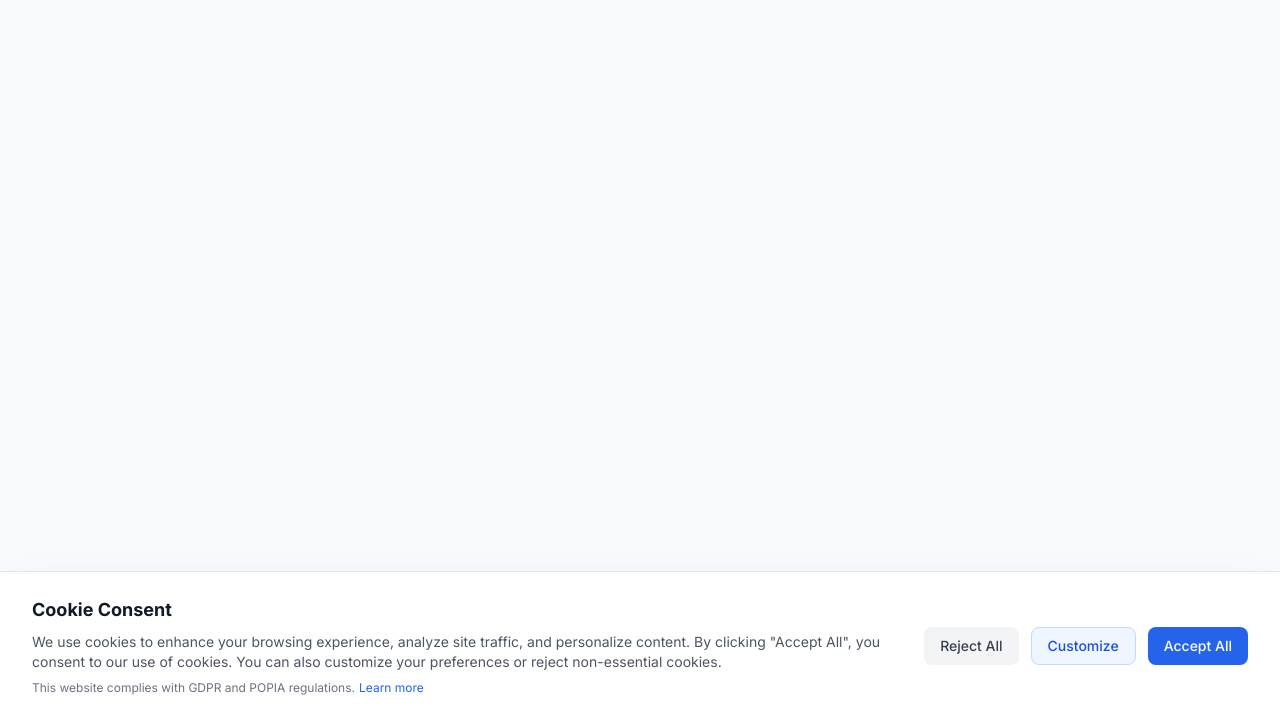
Test case: CookieConsent › should show preferences modal when Learn more is clicked
Click the button "Learn more" at (391, 688), box [359, 680, 424, 696]
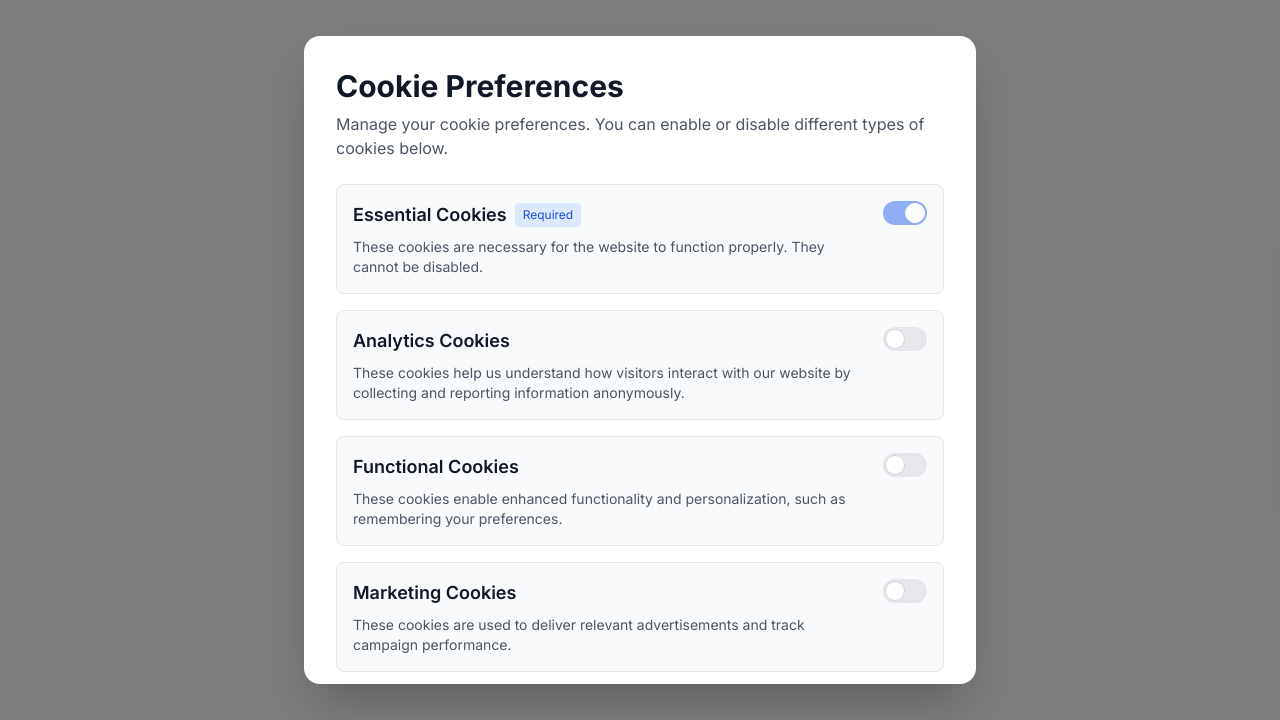
Check: the heading "Cookie Preferences" is shown, box [336, 68, 624, 104]
